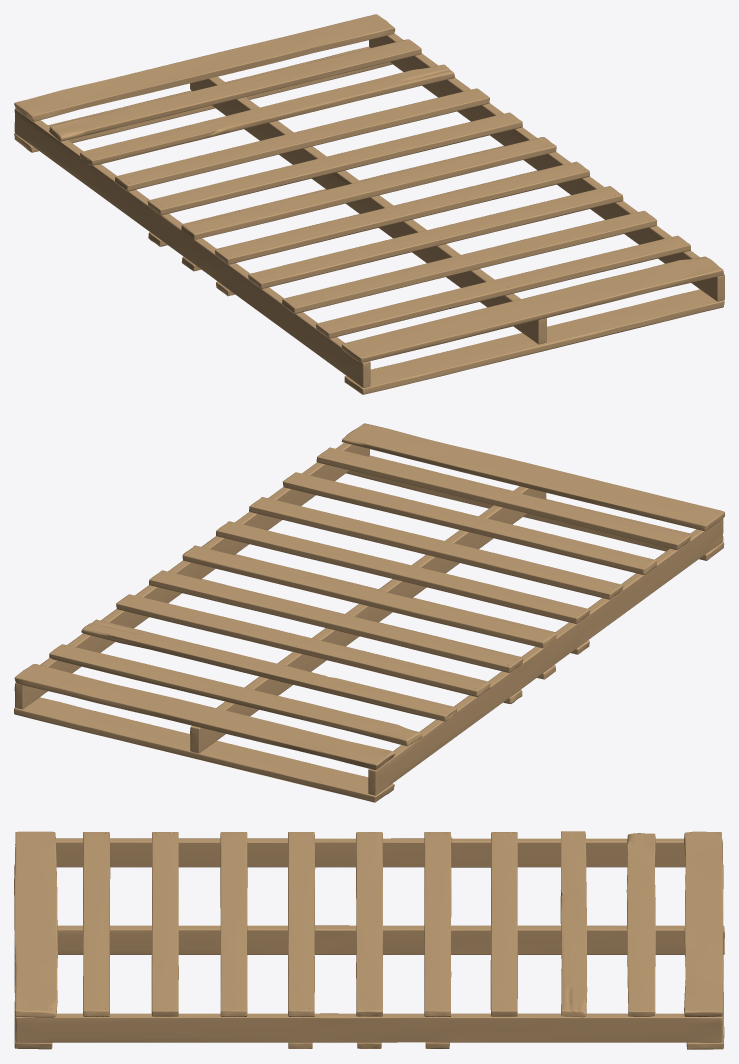
Rendered from pallet_drum_wood_recycled_a07.glb.
3 renders of one model, top to bottom at view 1: azimuth 30°, elevation 25°; view 2: azimuth 150°, elevation 25°; view 3: azimuth 270°, elevation 25°, orthographic.
Size of the model in its own units: 0.9018 by 0.091 by 1.5.
